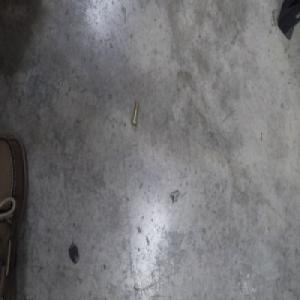Bolt: (130, 100, 139, 127)
